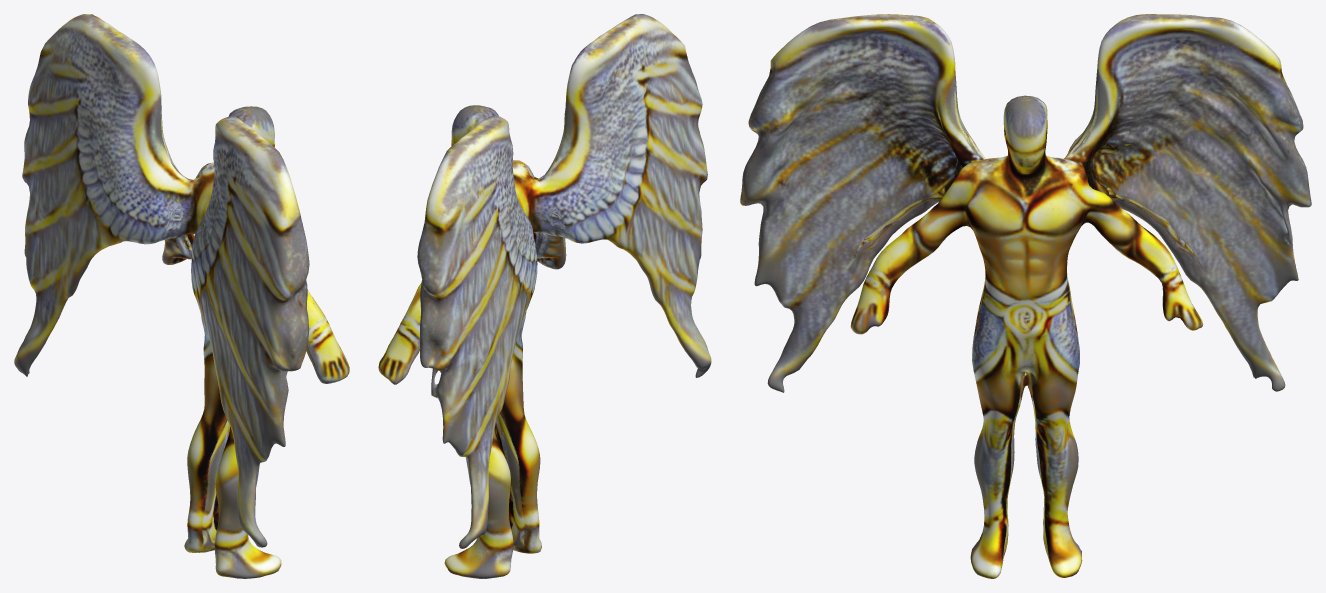
File: dashboard_angel.glb
The picture shows the model from 3 angles, left to right: view 1: azimuth 30°, elevation 25°; view 2: azimuth 150°, elevation 25°; view 3: azimuth 270°, elevation 25°; orthographic projection. The views are drawn at different scales.
Visible parts, largest first — view 1: mesh; view 2: mesh; view 3: mesh.
Boxes of the visible parts, <box> form: mesh: <box>14,14,349,578</box>; mesh: <box>378,14,711,578</box>; mesh: <box>740,14,1311,578</box>.
Size of the model in its own units: 0.3052 by 0.9989 by 0.9935.
1 material, 1 textured.
